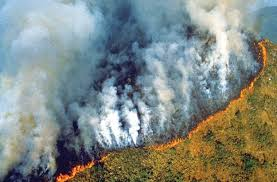fire: (55, 166, 94, 182)
smoke: (1, 1, 230, 135)
